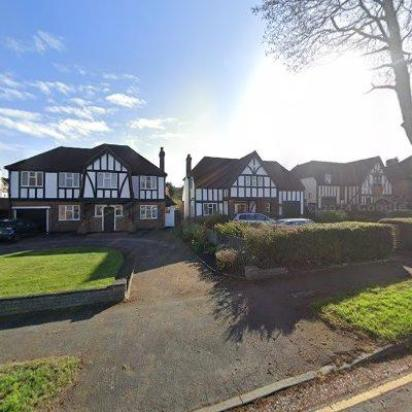stationary-car-offstreet: (0, 215, 34, 242), (229, 212, 274, 226), (272, 217, 316, 226)
